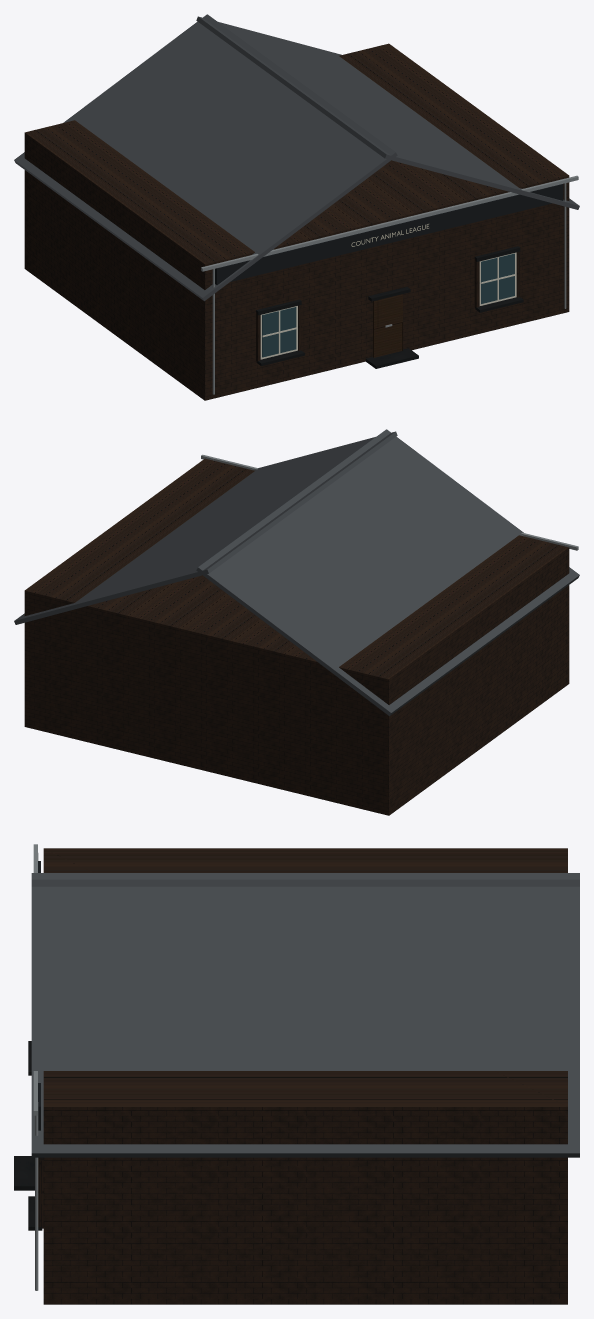
Rendered from league-building.glb.
The picture shows the model from 3 angles, top to bottom: view 1: azimuth 30°, elevation 25°; view 2: azimuth 150°, elevation 25°; view 3: azimuth 270°, elevation 25°; orthographic projection. The views are drawn at different scales.
Visible parts, largest first — view 1: Brick shell.002, Pitched roof.004, Pitched roof.005, Fascia.001, Gutter.002, Front door.002, Window glass.006, Window glass.007, Doorstep; view 2: Brick shell.002, Pitched roof.004, Pitched roof.005; view 3: Brick shell.002, Pitched roof.005, Pitched roof.004, Doorstep, Downpipe.005.
Boxes of the visible parts, left/top/right/bottom form: Brick shell.002: left=24, top=43, right=569, bottom=400; Pitched roof.004: left=14, top=14, right=397, bottom=301; Pitched roof.005: left=196, top=16, right=579, bottom=209; Fascia.001: left=215, top=184, right=563, bottom=284; Gutter.002: left=201, top=175, right=578, bottom=271; Front door.002: left=373, top=294, right=402, bottom=357; Window glass.006: left=262, top=307, right=296, bottom=357; Window glass.007: left=481, top=253, right=514, bottom=303; Doorstep: left=365, top=348, right=418, bottom=368; Brick shell.002: left=24, top=458, right=569, bottom=815; Pitched roof.004: left=196, top=429, right=579, bottom=716; Pitched roof.005: left=14, top=431, right=397, bottom=624; Brick shell.002: left=43, top=848, right=567, bottom=1304; Pitched roof.005: left=31, top=873, right=579, bottom=1157; Pitched roof.004: left=31, top=879, right=579, bottom=886; Doorstep: left=14, top=1156, right=34, bottom=1190; Downpipe.005: left=35, top=1101, right=38, bottom=1290.
Bounding box in the file's own units: 14.49 × 7.56 × 12.96.
Materials: 9 (3 with a texture image).
